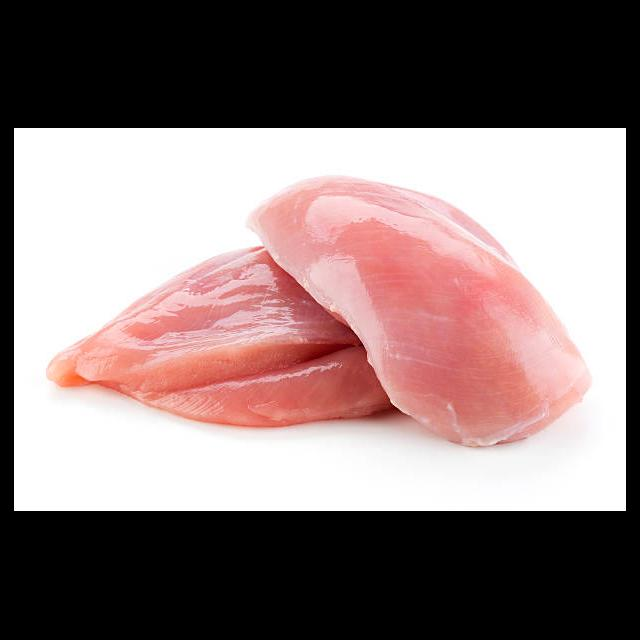chicken: (246, 175, 591, 445)
